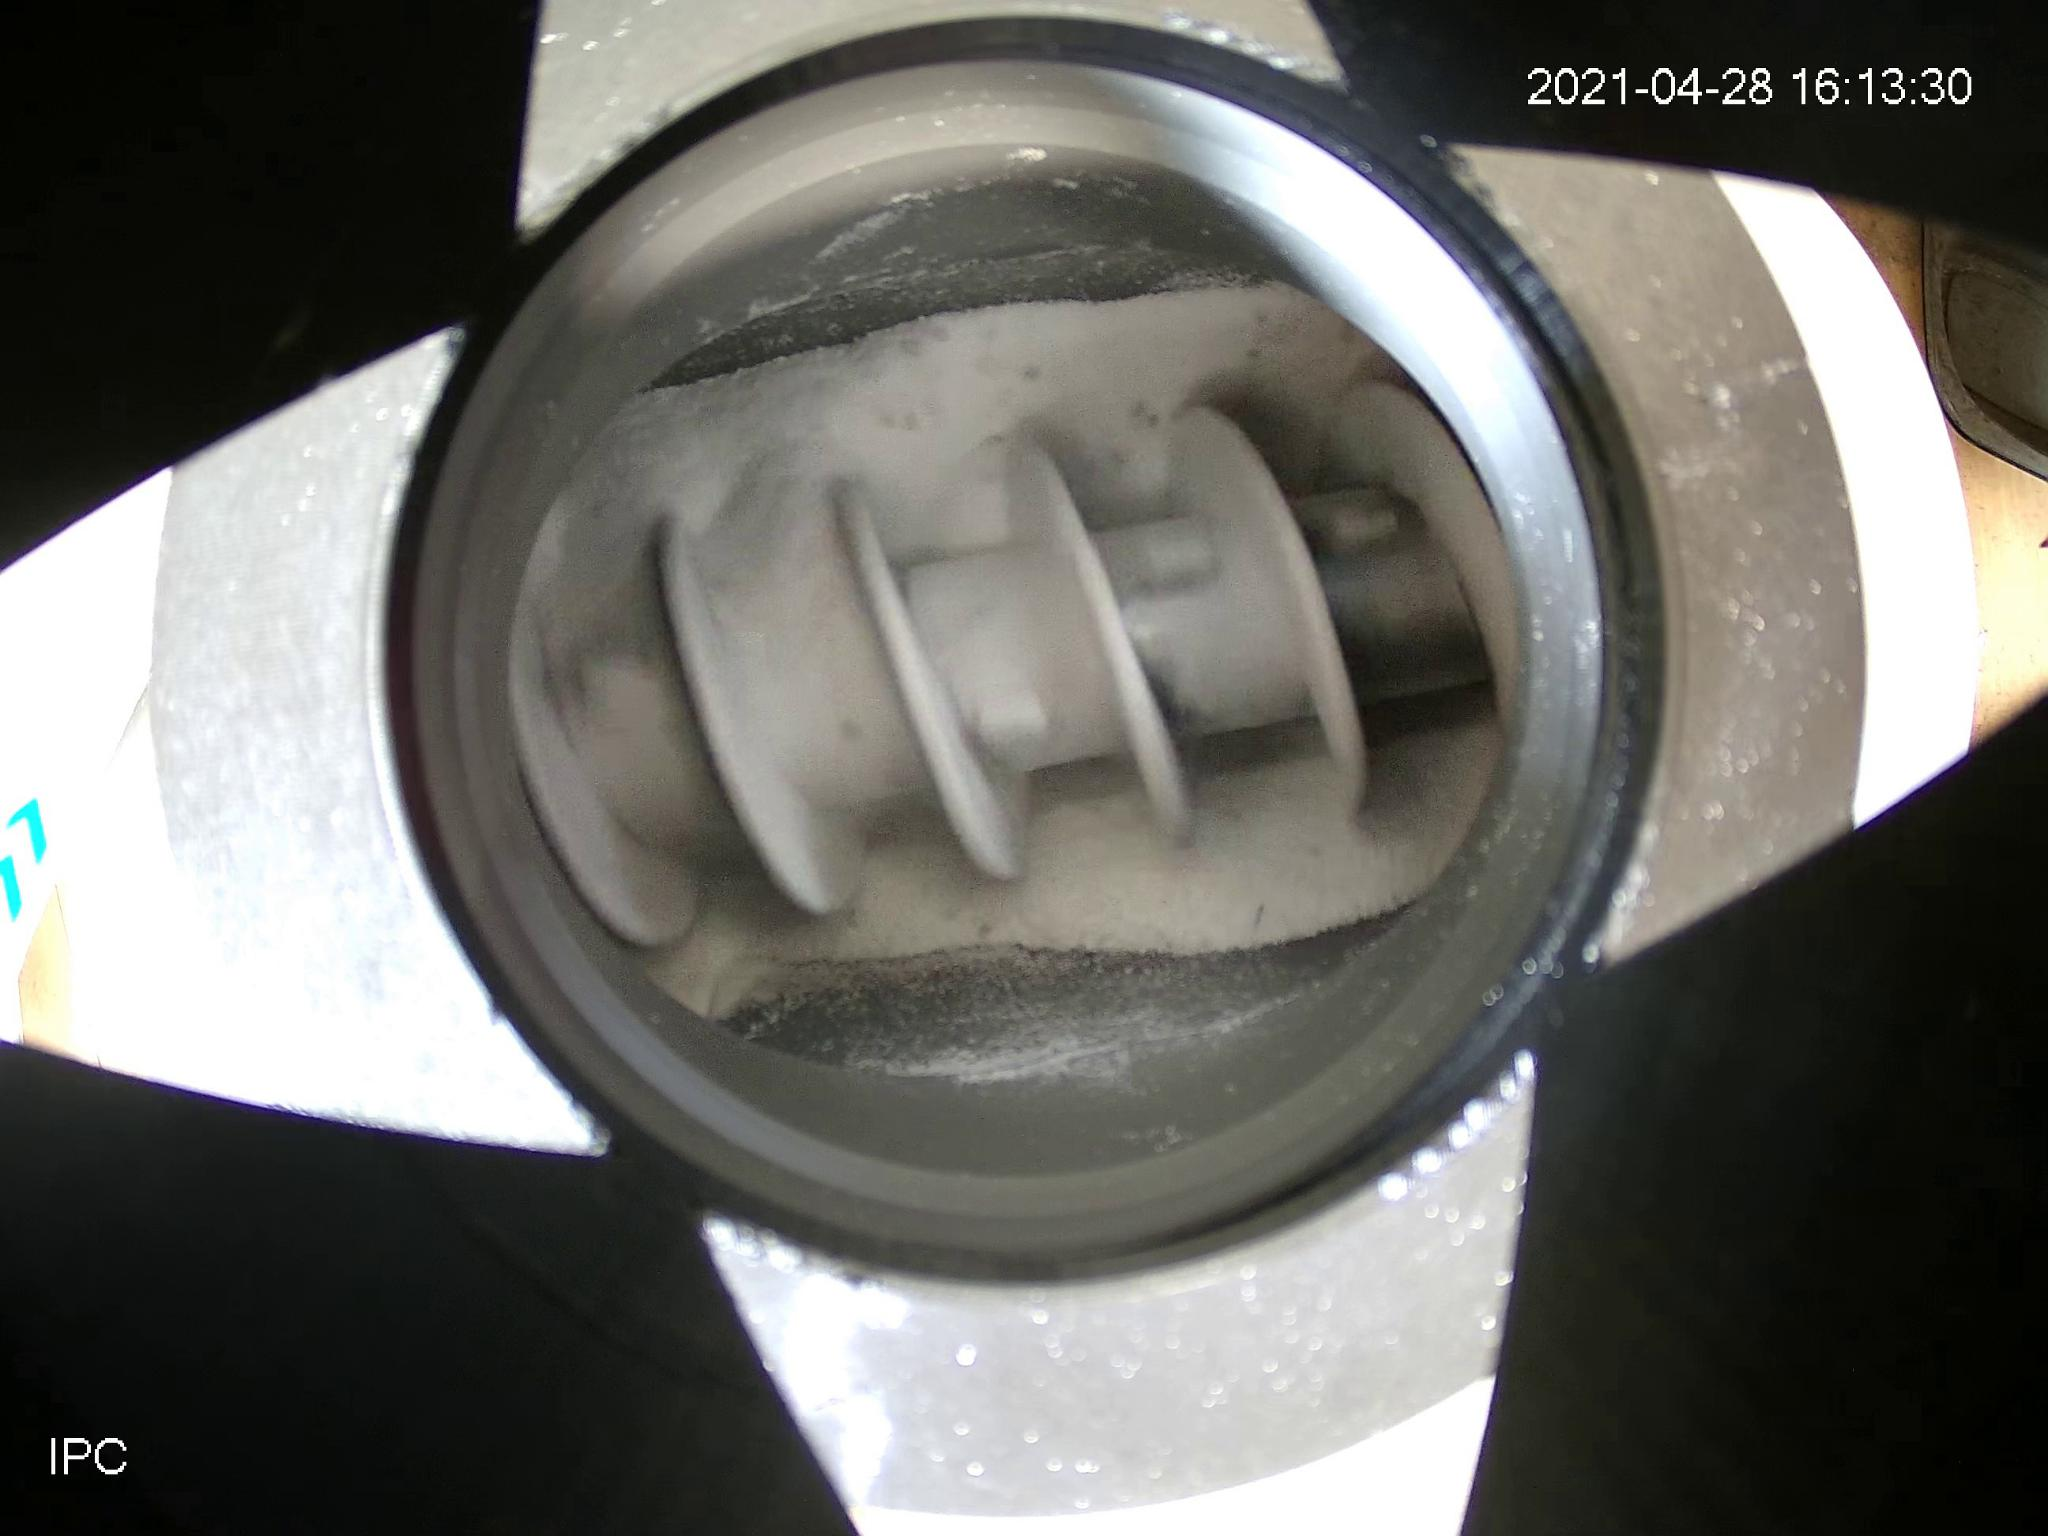stone: (1126, 397, 1158, 429), (977, 432, 1006, 449), (900, 340, 922, 358), (905, 411, 921, 432), (1022, 361, 1039, 382), (839, 715, 856, 733), (876, 415, 893, 431), (929, 326, 948, 339), (1242, 345, 1259, 358), (976, 925, 990, 934)
